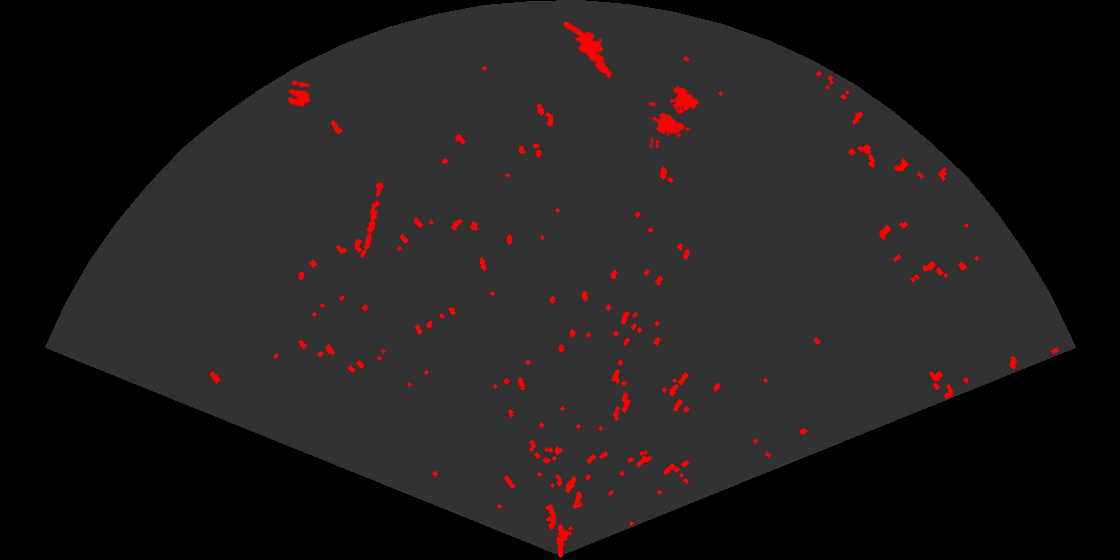ball: (285, 79, 312, 108)
cage: (649, 84, 700, 148)
chain: (359, 179, 386, 260)
frogman: (564, 22, 614, 80)
